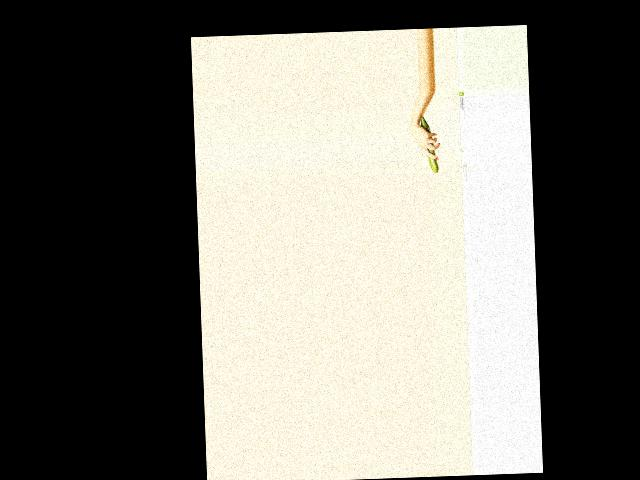cucumber: (421, 115, 439, 173)
